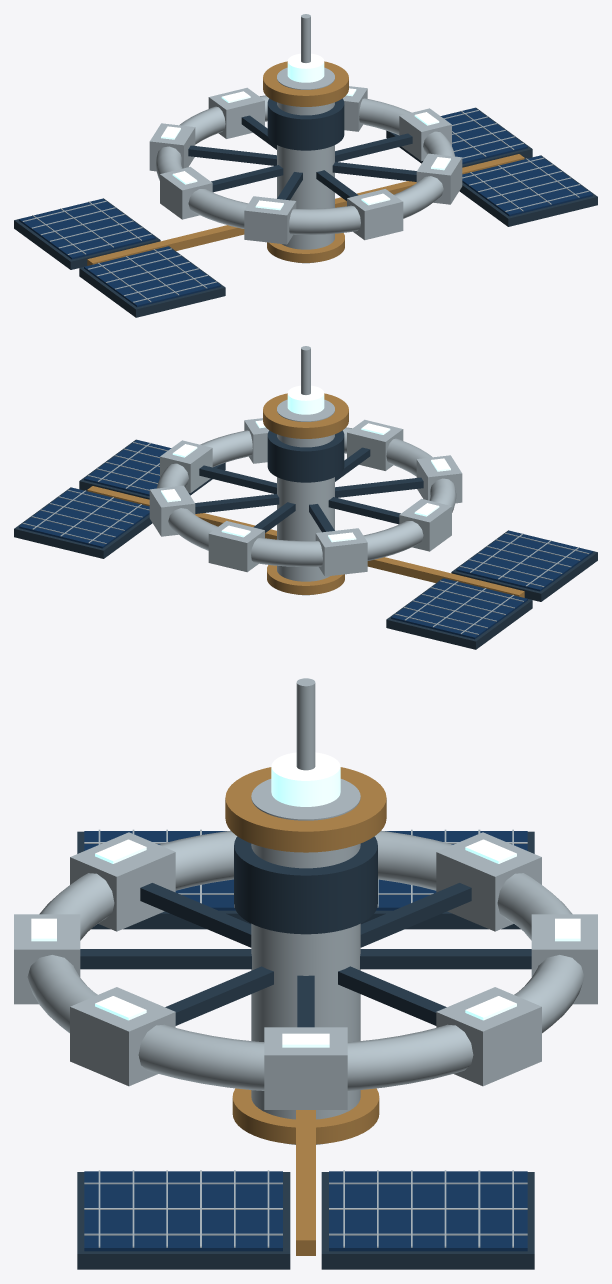
The model's file is base-auto_explore.glb.
The picture shows the model from 3 angles, top to bottom: view 1: azimuth 30°, elevation 25°; view 2: azimuth 150°, elevation 25°; view 3: azimuth 270°, elevation 25°; orthographic projection. The views are drawn at different scales.
Visible parts, largest first — view 1: _MeshInstance3D_16, _MeshInstance3D_9, _MeshInstance3D_54, _MeshInstance3D_43, _MeshInstance3D_77, _MeshInstance3D_10, _MeshInstance3D_66, _MeshInstance3D_11, _MeshInstance3D_27, _MeshInstance3D_24, _MeshInstance3D_53, _MeshInstance3D_76 (+19 smaller); view 2: _MeshInstance3D_16, _MeshInstance3D_9, _MeshInstance3D_43, _MeshInstance3D_54, _MeshInstance3D_66, _MeshInstance3D_10, _MeshInstance3D_77, _MeshInstance3D_11, _MeshInstance3D_33, _MeshInstance3D_36, _MeshInstance3D_42, _MeshInstance3D_65 (+19 smaller); view 3: _MeshInstance3D_16, _MeshInstance3D_66, _MeshInstance3D_77, _MeshInstance3D_9, _MeshInstance3D_10, _MeshInstance3D_11, _MeshInstance3D_18, _MeshInstance3D_21, _MeshInstance3D_39, _MeshInstance3D_65, _MeshInstance3D_76, _MeshInstance3D_27 (+18 smaller).
Boxes of the visible parts, x1=… form: _MeshInstance3D_16: x1=155, y1=95, x2=455, y2=234; _MeshInstance3D_9: x1=277, y1=67, x2=334, y2=263; _MeshInstance3D_54: x1=84, y1=246, x2=220, y2=307; _MeshInstance3D_43: x1=19, y1=198, x2=155, y2=259; _MeshInstance3D_77: x1=462, y1=155, x2=592, y2=216; _MeshInstance3D_10: x1=267, y1=98, x2=344, y2=150; _MeshInstance3D_66: x1=398, y1=108, x2=527, y2=164; _MeshInstance3D_11: x1=263, y1=61, x2=348, y2=106; _MeshInstance3D_27: x1=244, y1=196, x2=296, y2=244; _MeshInstance3D_24: x1=347, y1=189, x2=403, y2=240; _MeshInstance3D_53: x1=79, y1=246, x2=225, y2=317; _MeshInstance3D_76: x1=459, y1=155, x2=597, y2=226; _MeshInstance3D_16: x1=156, y1=427, x2=456, y2=566; _MeshInstance3D_9: x1=277, y1=399, x2=334, y2=595; _MeshInstance3D_43: x1=391, y1=578, x2=527, y2=639; _MeshInstance3D_54: x1=456, y1=530, x2=592, y2=591; _MeshInstance3D_66: x1=19, y1=487, x2=149, y2=548; _MeshInstance3D_10: x1=267, y1=430, x2=344, y2=482; _MeshInstance3D_77: x1=84, y1=440, x2=213, y2=496; _MeshInstance3D_11: x1=263, y1=393, x2=348, y2=438; _MeshInstance3D_33: x1=315, y1=528, x2=367, y2=576; _MeshInstance3D_36: x1=208, y1=521, x2=264, y2=572; _MeshInstance3D_42: x1=386, y1=578, x2=532, y2=649; _MeshInstance3D_65: x1=14, y1=487, x2=152, y2=558; _MeshInstance3D_16: x1=27, y1=830, x2=584, y2=1090; _MeshInstance3D_66: x1=329, y1=1171, x2=527, y2=1251; _MeshInstance3D_77: x1=84, y1=1171, x2=282, y2=1251; _MeshInstance3D_9: x1=251, y1=779, x2=360, y2=1144; _MeshInstance3D_10: x1=234, y1=836, x2=377, y2=934; _MeshInstance3D_11: x1=225, y1=767, x2=386, y2=852; _MeshInstance3D_18: x1=264, y1=1027, x2=347, y2=1109; _MeshInstance3D_21: x1=70, y1=987, x2=175, y2=1086; _MeshInstance3D_39: x1=436, y1=987, x2=541, y2=1086; _MeshInstance3D_65: x1=321, y1=1172, x2=534, y2=1269; _MeshInstance3D_76: x1=77, y1=1172, x2=290, y2=1269; _MeshInstance3D_27: x1=70, y1=832, x2=175, y2=931.
Size of the model in its own units: 6.95 by 3.37 by 4.06.
